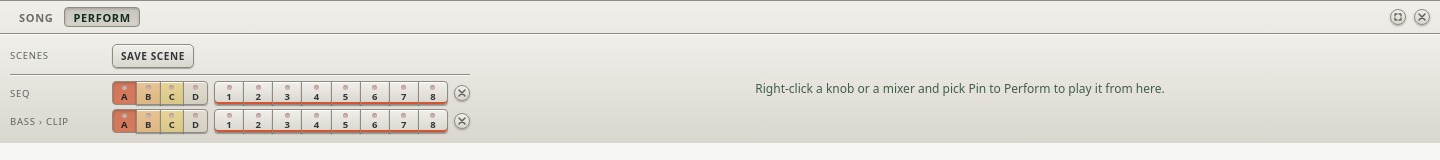
Scenario: PerformPanel launcher › hides a row, and shows it again
Click the button named "Hide Seq" at (462, 93), box [454,85,470,101]
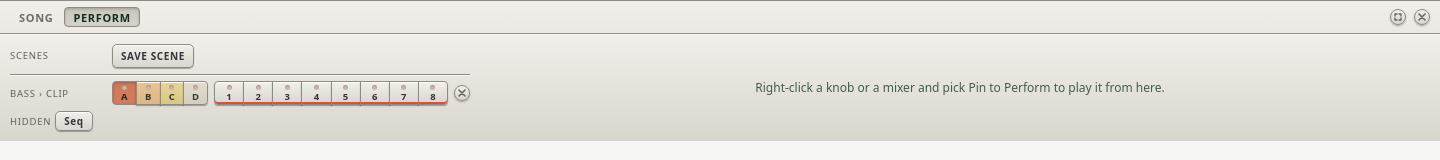
Now the text "Patterns of Seq" is gone
Click the button with aria-label "Show Seq" at (74, 121), box [55,111,93,131]
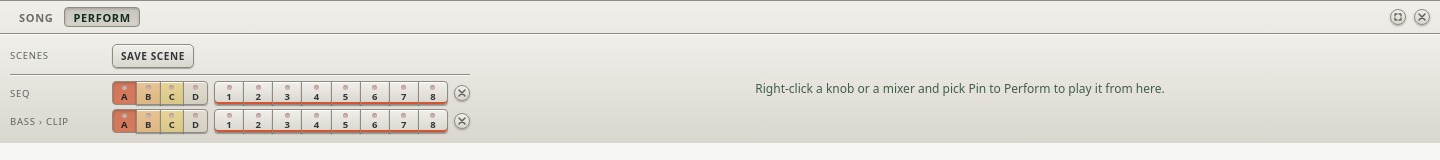
Now the element named "Patterns of Seq" is shown, box [10,81,470,105]
